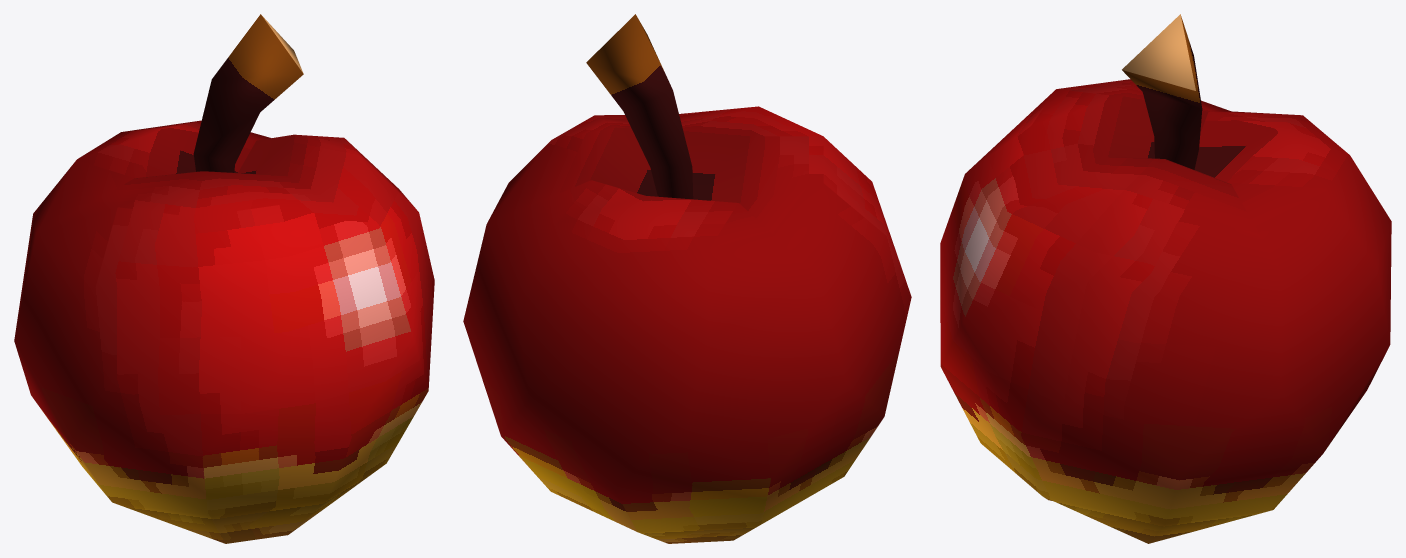
File: fg_apple.dae
3 renders of one model, left to right at view 1: azimuth 30°, elevation 25°; view 2: azimuth 150°, elevation 25°; view 3: azimuth 270°, elevation 25°, orthographic. The views are drawn at different scales.
Parts seen in each view (by area): view 1: fg_apple; view 2: fg_apple; view 3: fg_apple.
Part boxes in pixels (x1,y1,x2,y2): fg_apple: (14,14,434,543); fg_apple: (463,14,911,543); fg_apple: (940,14,1391,543).
Bounding box in the file's own units: 13.52 × 17.23 × 13.46.
